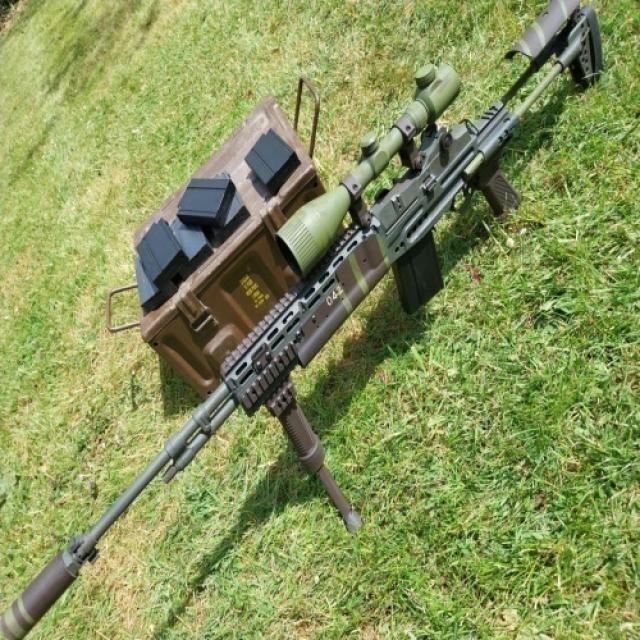Gun: (0, 14, 604, 640)
